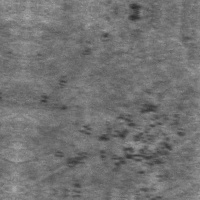rolled-in_scale: (61, 90, 188, 199)
